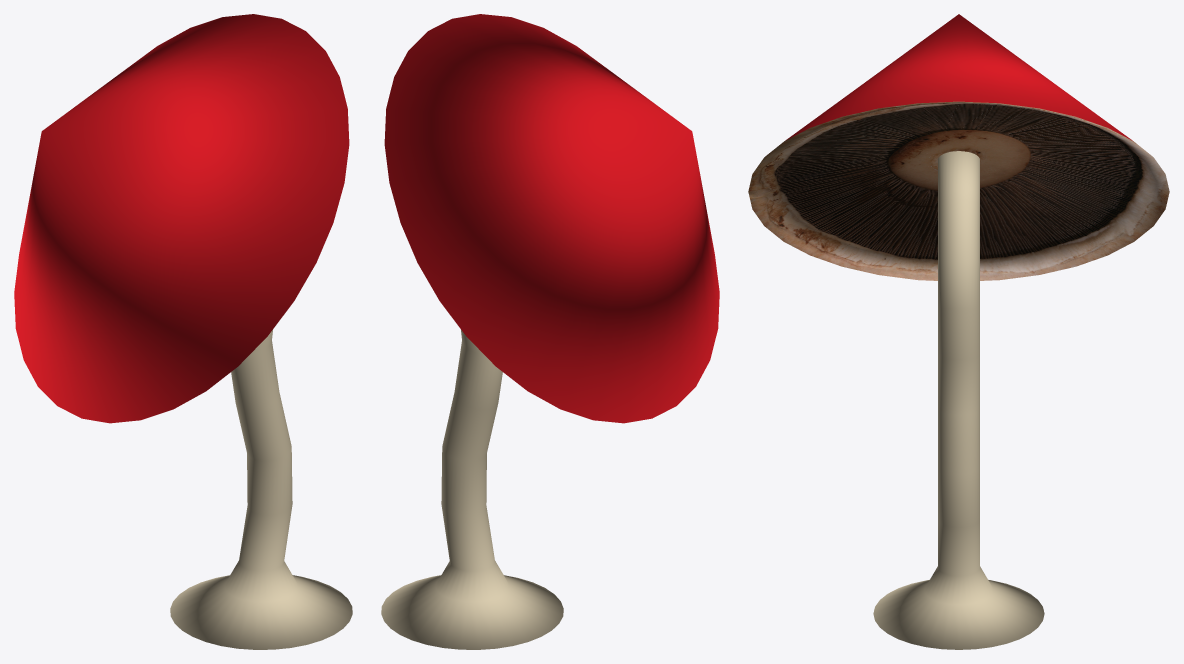
File: champi51.fbx
3 views of the same model, side by side, from view 1: azimuth 30°, elevation 25°; view 2: azimuth 150°, elevation 25°; view 3: azimuth 270°, elevation 25° (orthographic). The views are drawn at different scales.
Visible parts, largest first — view 1: Cylinder; view 2: Cylinder; view 3: Cylinder.
Boxes of the visible parts, box(x1,y1,x2,y2) form: Cylinder: box(14, 14, 352, 649); Cylinder: box(381, 14, 719, 649); Cylinder: box(748, 14, 1169, 649).
Bounding box in the file's own units: 75.47 × 137 × 98.43.
